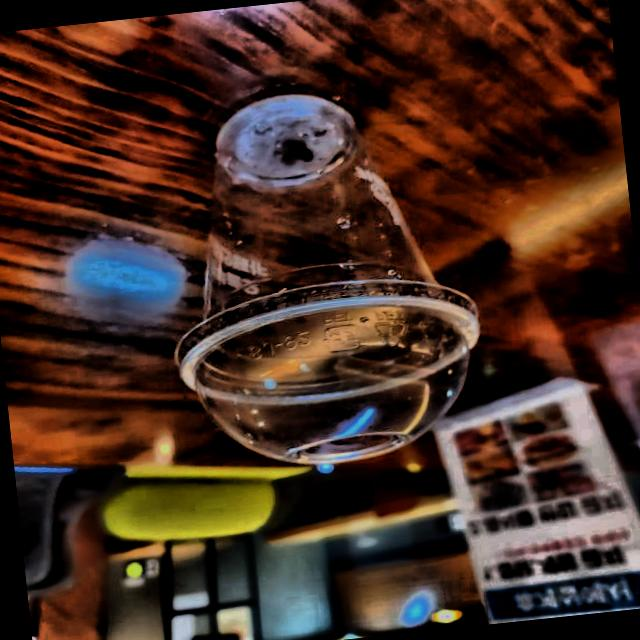plastic cup: (97, 49, 550, 498)
